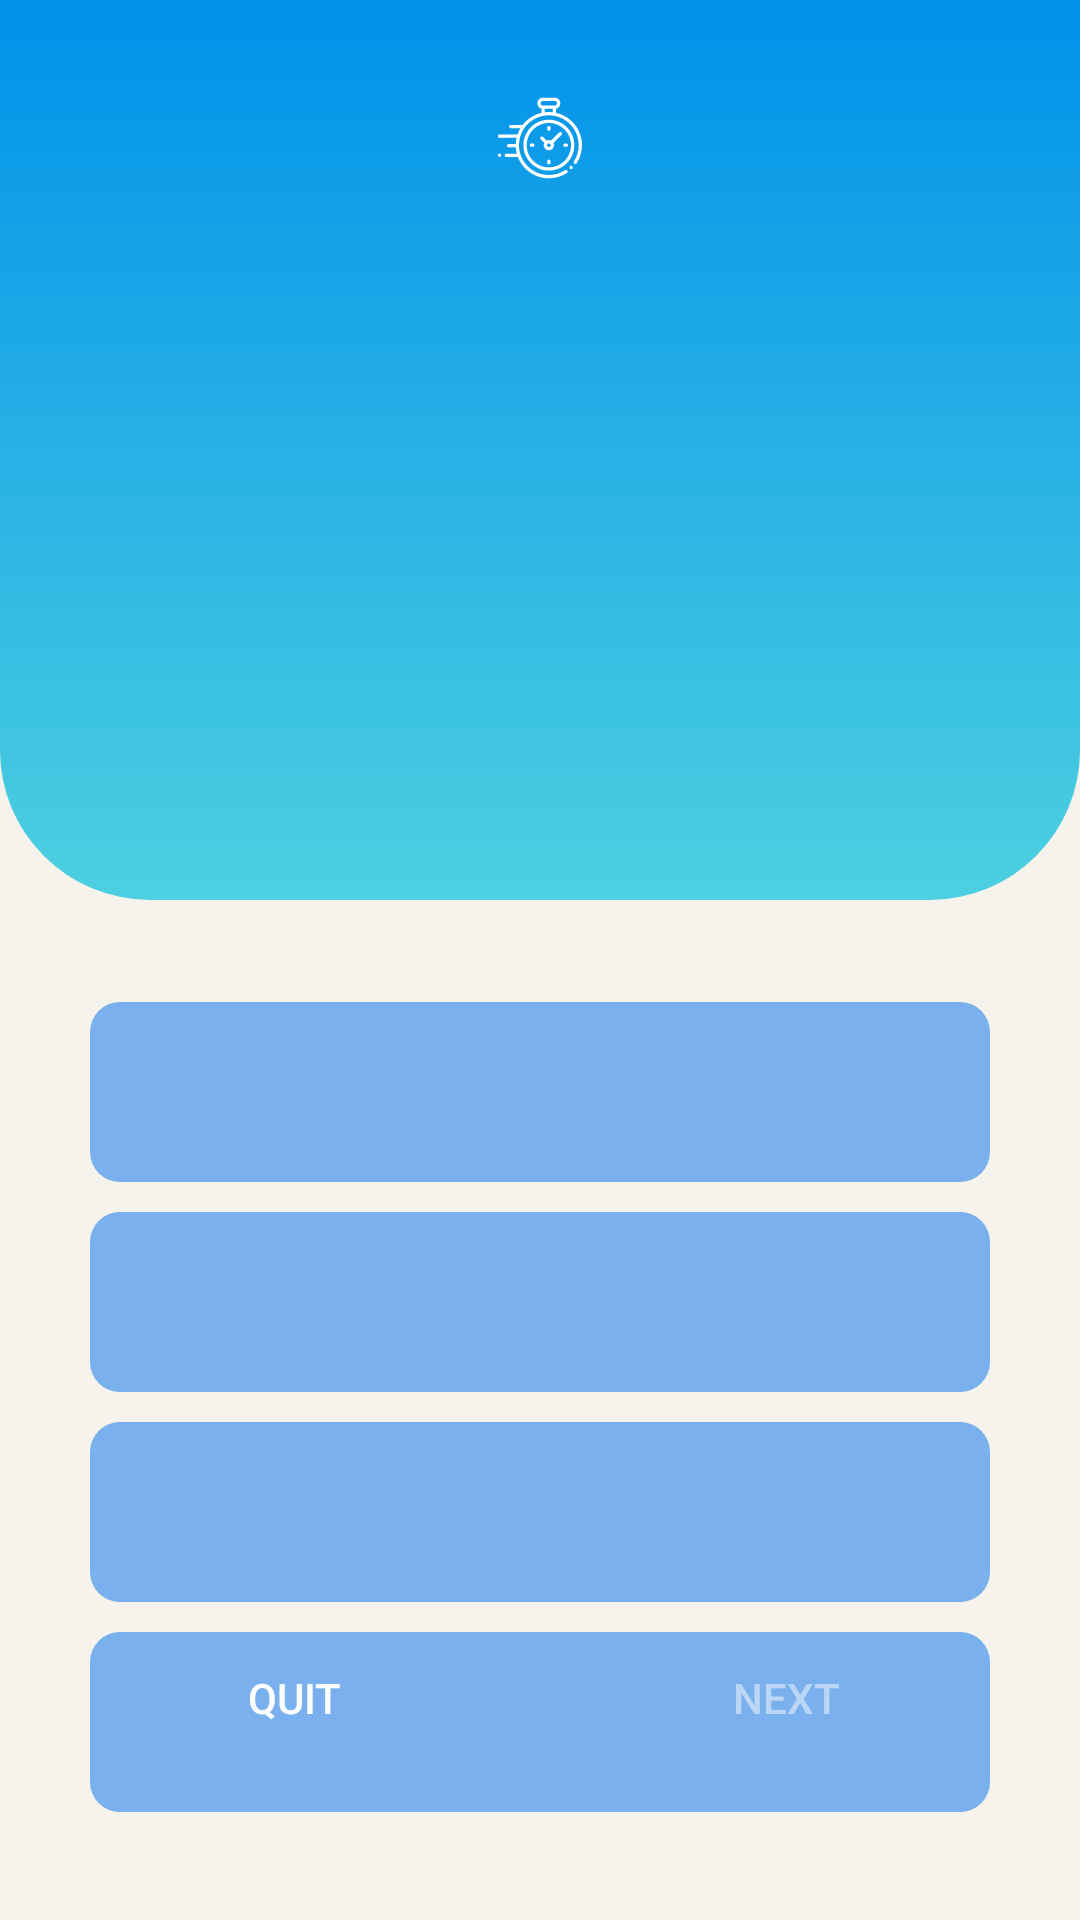

Icon bounding boxes for this 1080 x 1920 phone screenshot, format (x1, y1, x2, y2):
Timer Clock: (498, 97, 582, 179)
